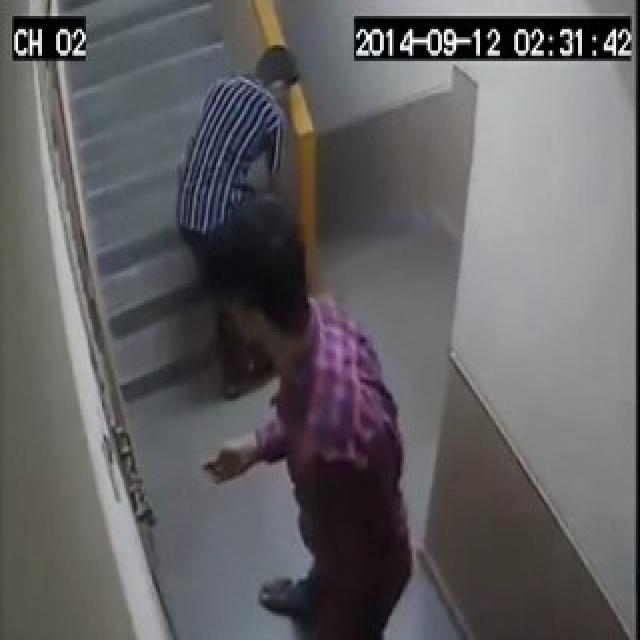thief: (211, 197, 426, 640), (182, 37, 310, 201)
